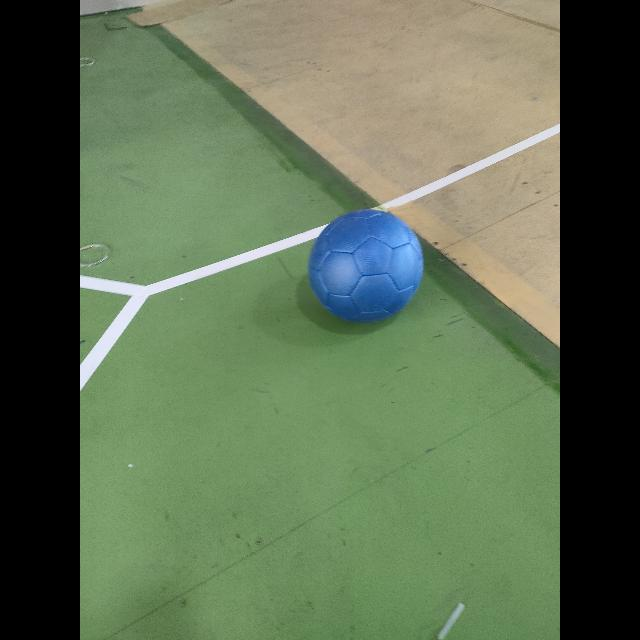B: (308, 210, 424, 322)
